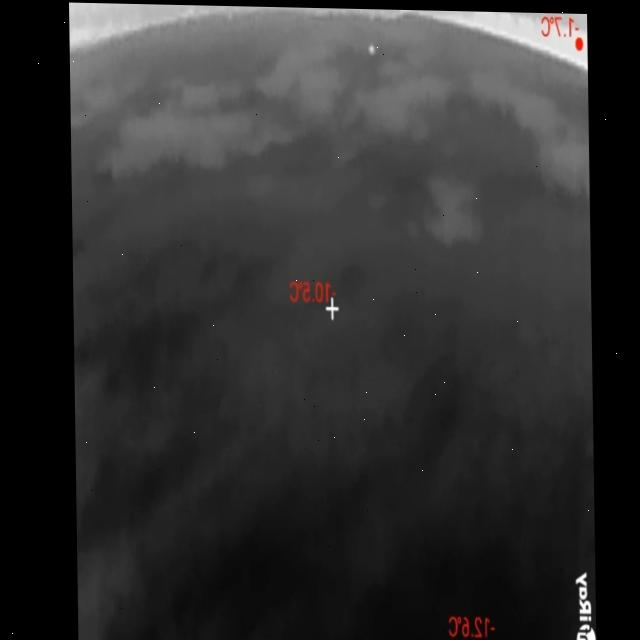drone: (367, 40, 375, 55)
